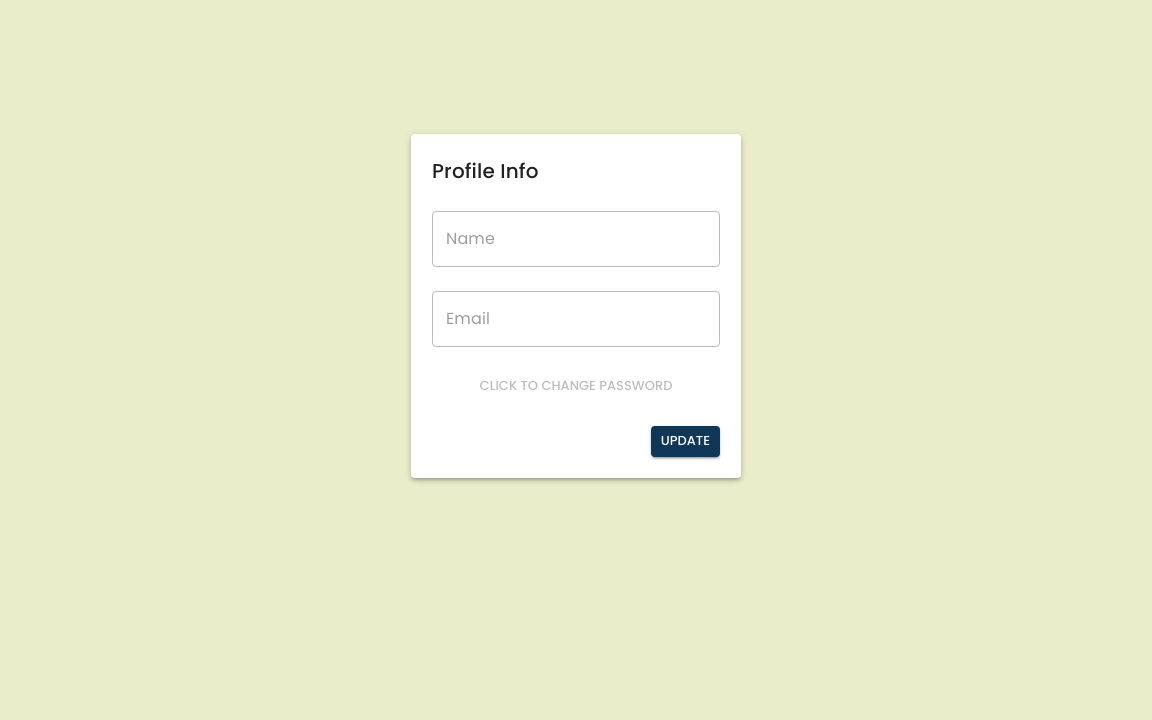
Scenario: Profile Component Testing › should render wrong password if password is wrong else should enable all text fields
Click the button "Update": (685, 441) [651,426,720,457]
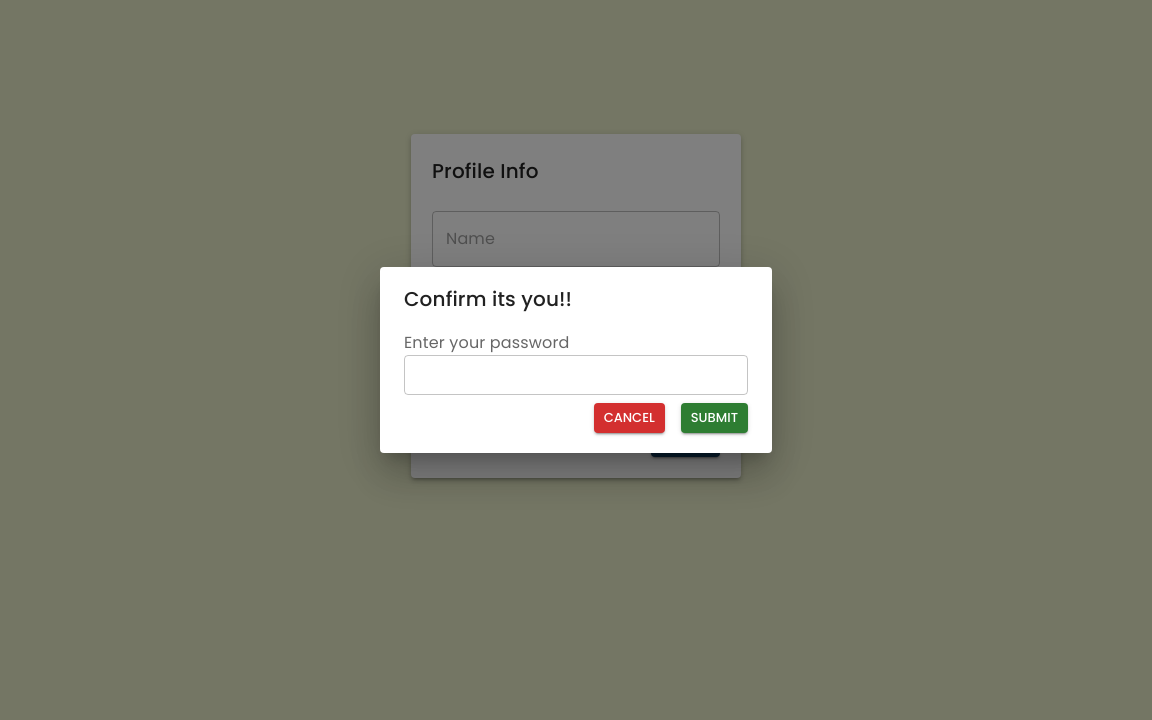
Result: the heading "Confirm its you!!" is shown at [404,285,572,313]
In the password field: (576, 375) [404,355,748,395], type "wrongpassword"
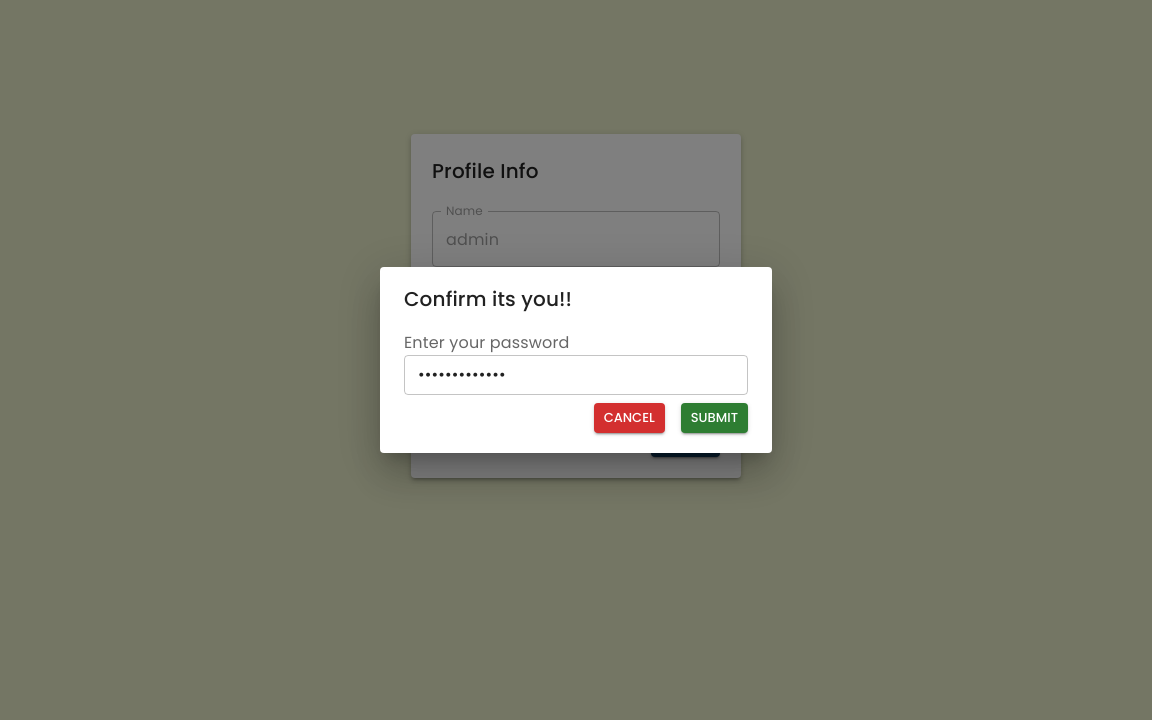
Click the button "Submit": (714, 418) [681,403,748,433]
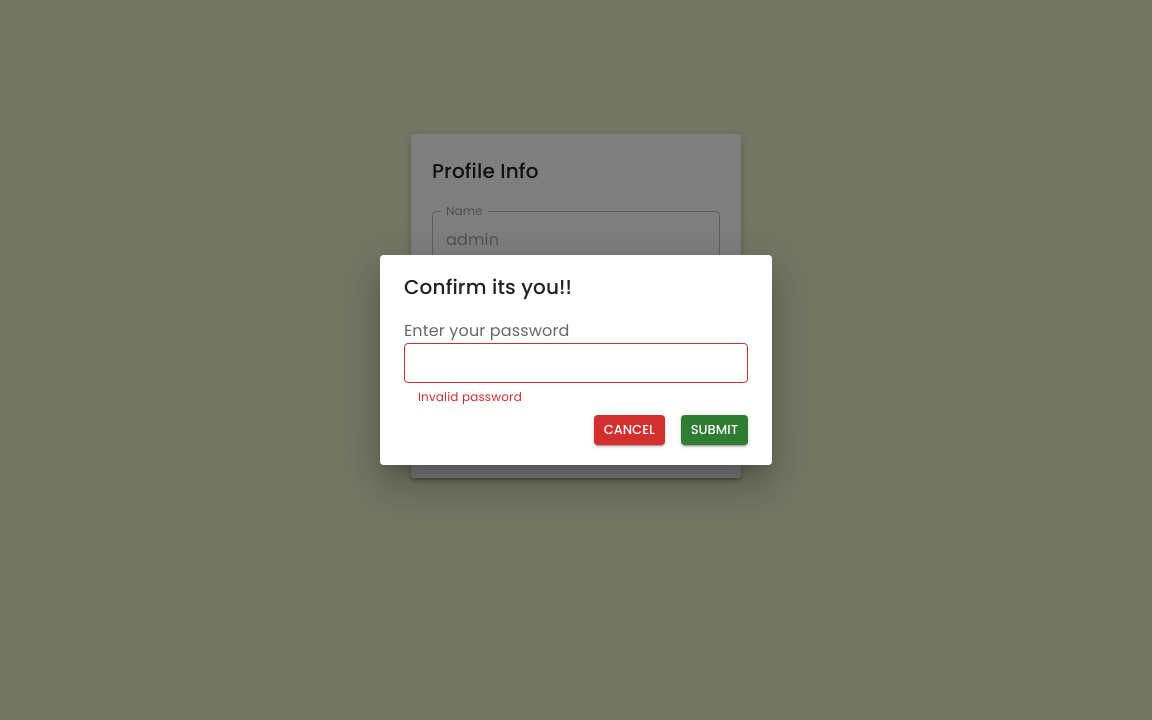
Result: the text "Invalid password" is shown at [418,388,522,405]
